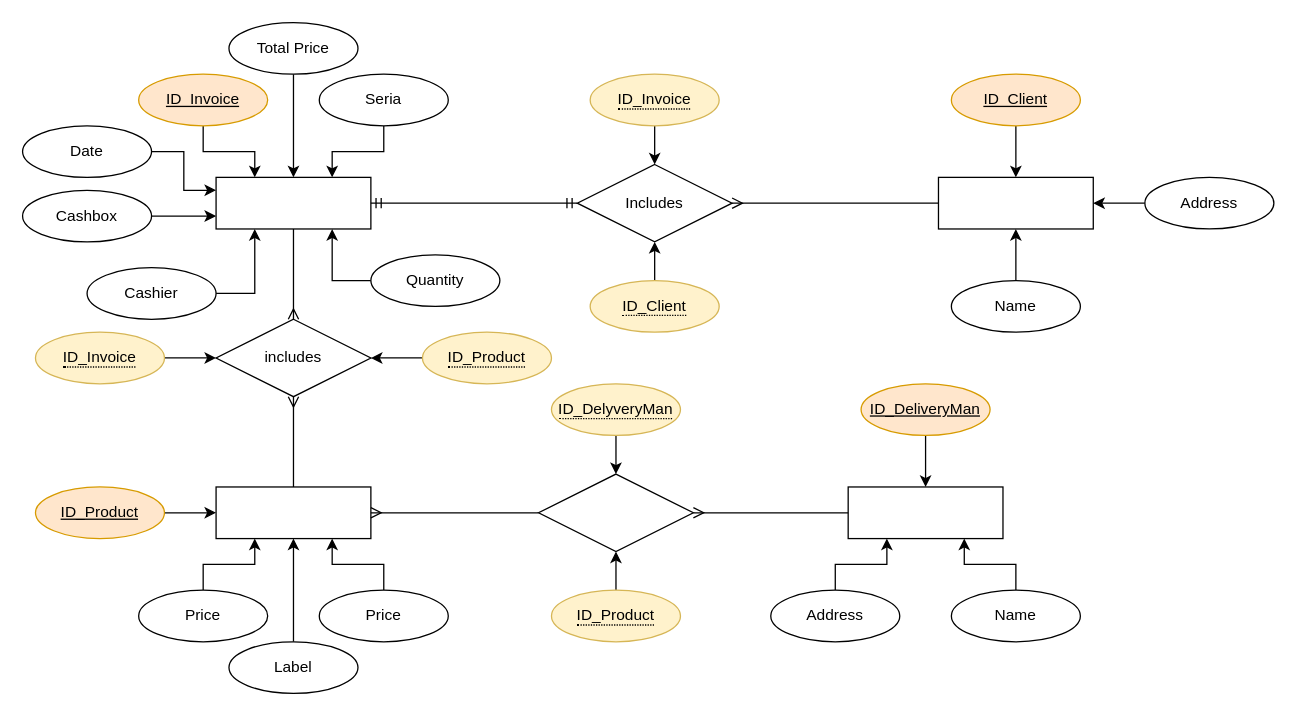
Some shapes in this 1296 by 716 pixel diagram are drawn without their labels. Each missing label, with the centre of its shape:
Client: point (1015, 202)
delivers: point (615, 512)
DeliveryMans: point (925, 512)
Invoice: point (293, 202)
Product: point (293, 512)
